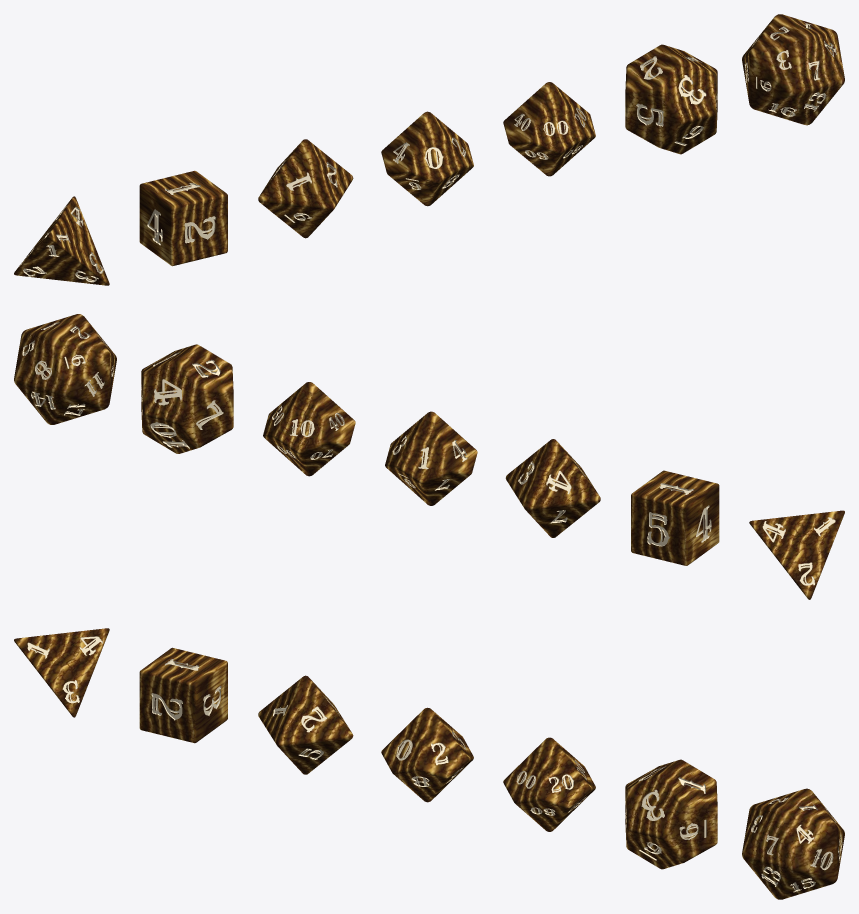
File: tigers-eye.glb
3 views of the same model, one above another, from view 1: azimuth 30°, elevation 25°; view 2: azimuth 150°, elevation 25°; view 3: azimuth 330°, elevation 25° (orthographic).
Parts seen in each view (by area): view 1: d20, d12, d6, d100, d10, d8, d4; view 2: d20, d12, d6, d100, d10, d8, d4; view 3: d20, d12, d6, d8, d100, d10, d4.
Part boxes in pixels (bbox=[...]): d20: bbox=[742, 14, 844, 125]; d12: bbox=[625, 44, 717, 154]; d6: bbox=[139, 170, 227, 266]; d100: bbox=[503, 82, 595, 176]; d10: bbox=[381, 111, 473, 206]; d8: bbox=[258, 139, 353, 238]; d4: bbox=[14, 196, 109, 285]; d20: bbox=[14, 314, 116, 424]; d12: bbox=[141, 344, 233, 453]; d6: bbox=[631, 470, 719, 565]; d100: bbox=[263, 382, 355, 476]; d10: bbox=[385, 411, 477, 505]; d8: bbox=[505, 439, 600, 537]; d4: bbox=[749, 510, 844, 599]; d20: bbox=[742, 788, 844, 899]; d12: bbox=[625, 759, 717, 869]; d6: bbox=[139, 647, 227, 743]; d8: bbox=[258, 675, 353, 774]; d100: bbox=[503, 737, 595, 831]; d10: bbox=[381, 707, 473, 802]; d4: bbox=[14, 628, 109, 717].
Size of the model in its own units: 21.14 by 2.47 by 2.47.
Materials: 14 (7 with a texture image).
